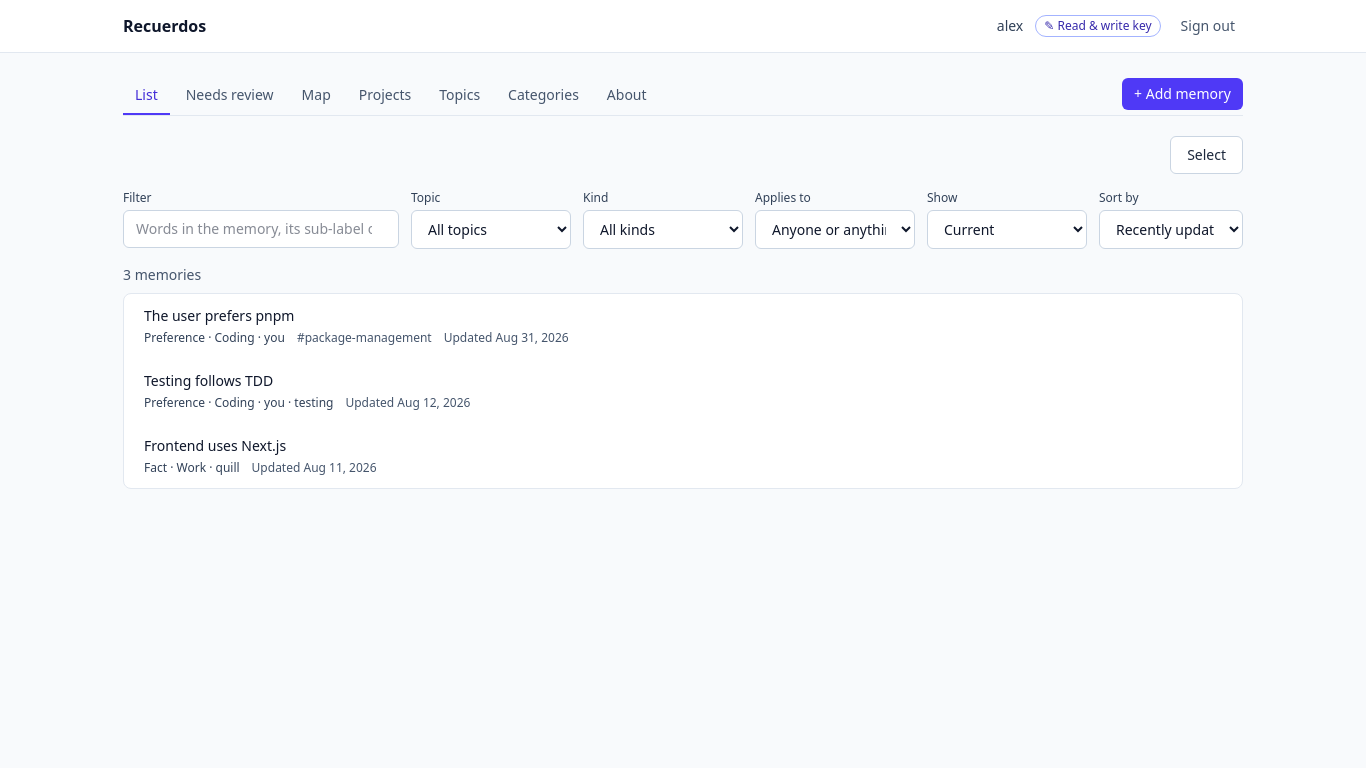
Test case: the map view › is its own URL and lays out every memory
Click the link "Map" at (316, 94), box [302, 85, 331, 104]
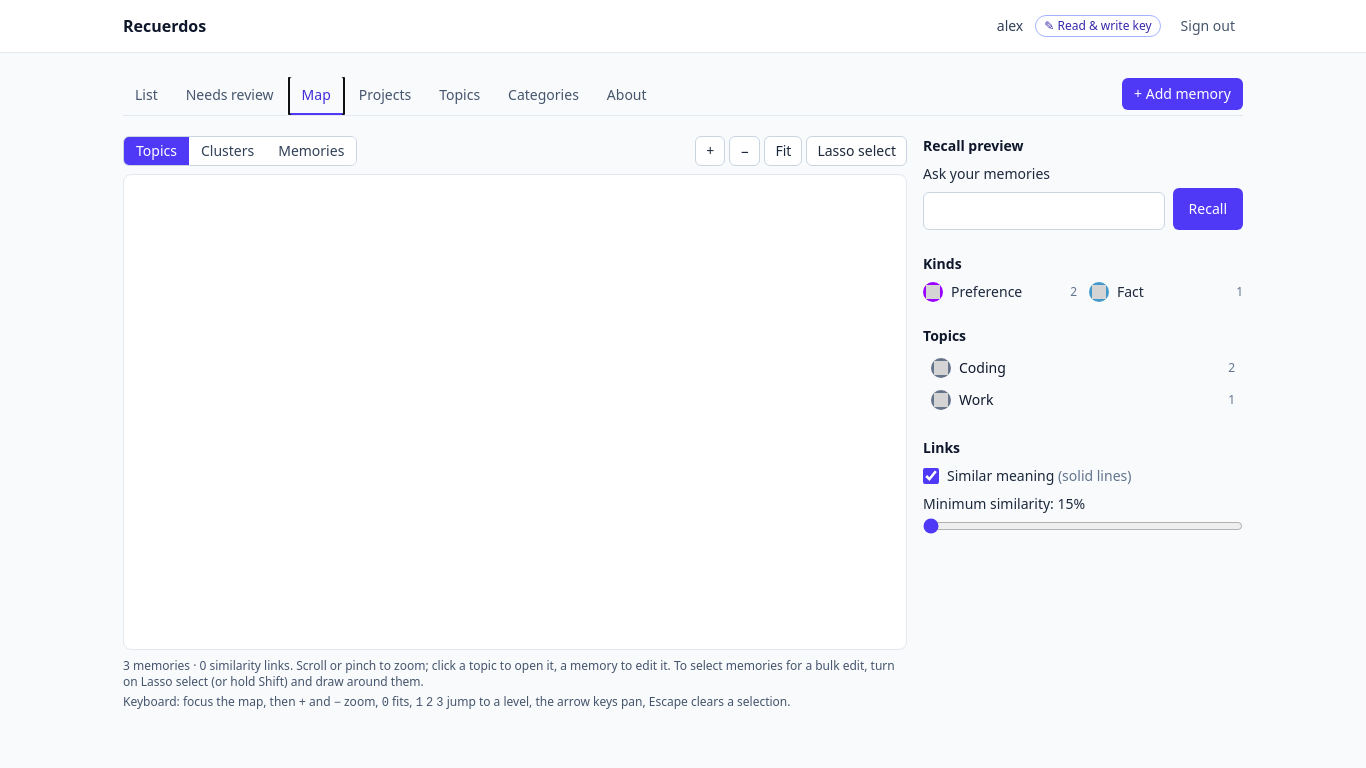
Check: the element named "Map of 3 memories" is shown, box [123, 174, 907, 650]
